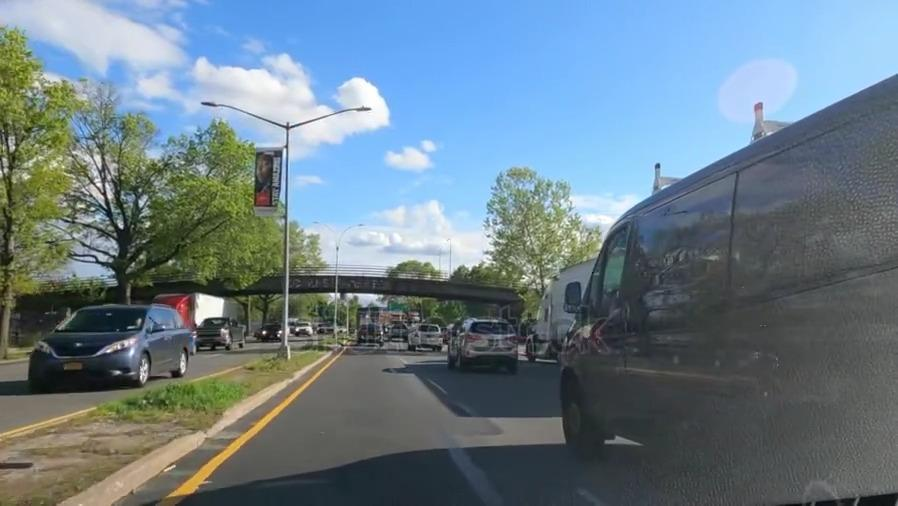car: (33, 306, 194, 384), (450, 314, 522, 373), (199, 315, 249, 348), (354, 323, 387, 350), (410, 323, 442, 348), (261, 320, 282, 341), (389, 319, 404, 336)
van: (599, 79, 897, 489)
wheel: (557, 378, 592, 451)
